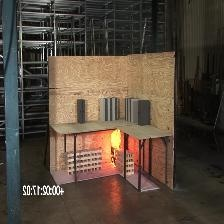fire: (104, 125, 126, 161)
